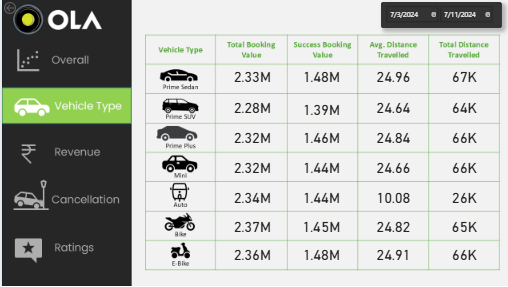

Layout of this report page (visuals, bound fields, positions):
{"tool":"powerbi","page":{"name":"Vehicle Type","canvas":[1280,720],"ordinal":1},"visuals":[{"type":"actionButton","box":[0,95.7,314.3,125.7],"z":0},{"type":"actionButton","box":[0,311.4,314.3,125.7],"z":1000},{"type":"actionButton","box":[0,437.1,314.3,124.3],"z":2000},{"type":"actionButton","box":[0,561.4,314.3,158.6],"z":3000},{"type":"card","fields":{"Values":["Sum(July.Booking_Value)"]},"box":[555.7,169.6,141.8,51.9],"z":4000},{"type":"card","fields":{"Values":["Sum(July.Booking_Value)"]},"box":[555.7,248.1,141.8,51.9],"z":5000},{"type":"card","fields":{"Values":["Sum(July.Booking_Value)"]},"box":[555.7,322.8,141.8,51.9],"z":6000},{"type":"card","fields":{"Values":["Sum(July.Booking_Value)"]},"box":[555.7,397.5,141.8,51.9],"z":7000},{"type":"card","fields":{"Values":["Sum(July.Booking_Value)"]},"box":[555.7,472.2,141.8,51.9],"z":8000},{"type":"card","fields":{"Values":["Sum(July.Booking_Value)"]},"box":[555.7,544.3,141.8,51.9],"z":9000},{"type":"card","fields":{"Values":["Sum(July.Booking_Value)"]},"box":[555.7,613.9,141.8,51.9],"z":10000},{"type":"card","fields":{"Values":["Sum(July.Booking_Value)"]},"box":[727.8,169.6,141.8,51.9],"z":11000},{"type":"card","fields":{"Values":["Sum(July.Booking_Value)"]},"box":[727.8,472.2,141.8,51.9],"z":12000},{"type":"card","fields":{"Values":["Sum(July.Booking_Value)"]},"box":[727.8,397.5,141.8,51.9],"z":13000},{"type":"card","fields":{"Values":["Sum(July.Booking_Value)"]},"box":[727.8,322.8,141.8,51.9],"z":14000},{"type":"card","fields":{"Values":["Sum(July.Booking_Value)"]},"box":[727.8,251.9,141.8,51.9],"z":15000},{"type":"card","fields":{"Values":["Sum(July.Booking_Value)"]},"box":[727.8,544.3,141.8,51.9],"z":16000},{"type":"card","fields":{"Values":["Sum(July.Booking_Value)"]},"box":[727.8,613.9,141.8,51.9],"z":17000},{"type":"card","fields":{"Values":["Avg(July.Ride_Distance)"]},"box":[907.6,169.6,141.8,51.9],"z":18000},{"type":"card","fields":{"Values":["Avg(July.Ride_Distance)"]},"box":[907.6,248.1,141.8,51.9],"z":19000},{"type":"actionButton","box":[0,0,100,40],"z":20000},{"type":"card","fields":{"Values":["Avg(July.Ride_Distance)"]},"box":[907.6,322.8,141.8,51.9],"z":21000},{"type":"card","fields":{"Values":["Avg(July.Ride_Distance)"]},"box":[907.6,397.5,141.8,51.9],"z":22000},{"type":"card","fields":{"Values":["Avg(July.Ride_Distance)"]},"box":[907.6,472.2,141.8,51.9],"z":23000},{"type":"card","fields":{"Values":["Avg(July.Ride_Distance)"]},"box":[907.6,544.3,141.8,51.9],"z":24000},{"type":"card","fields":{"Values":["Avg(July.Ride_Distance)"]},"box":[907.6,613.9,141.8,51.9],"z":25000},{"type":"card","fields":{"Values":["Sum(July.Ride_Distance)"]},"box":[1084.8,169.6,141.8,51.9],"z":26000},{"type":"card","fields":{"Values":["Sum(July.Ride_Distance)"]},"box":[1084.8,248.1,141.8,51.9],"z":27000},{"type":"card","fields":{"Values":["Sum(July.Ride_Distance)"]},"box":[1084.8,322.8,141.8,51.9],"z":28000},{"type":"card","fields":{"Values":["Sum(July.Ride_Distance)"]},"box":[1084.8,397.5,141.8,51.9],"z":29000},{"type":"card","fields":{"Values":["Sum(July.Ride_Distance)"]},"box":[1084.8,472.2,141.8,51.9],"z":30000},{"type":"card","fields":{"Values":["Sum(July.Ride_Distance)"]},"box":[1084.8,544.3,141.8,51.9],"z":31000},{"type":"card","fields":{"Values":["Sum(July.Ride_Distance)"]},"box":[1084.8,613.9,141.8,51.9],"z":32000},{"type":"slicer","title":"Date","fields":{"Values":["July.Date"]},"box":[947,6.1,301.5,65.2],"z":33000}]}

Visuals, with their boxes on the page's 1280x720 design canvas (x1, y1, x2, y2). These are canvas units, not pixel positions in the 508x287 screenshot, which may show the page scaled, cropped or inside an application window:
actionButton: bbox=[0, 96, 314, 221]
actionButton: bbox=[0, 311, 314, 437]
actionButton: bbox=[0, 437, 314, 561]
actionButton: bbox=[0, 561, 314, 720]
card - Sum(July.Booking_Value): bbox=[556, 170, 698, 222]
card - Sum(July.Booking_Value): bbox=[556, 248, 698, 300]
card - Sum(July.Booking_Value): bbox=[556, 323, 698, 375]
card - Sum(July.Booking_Value): bbox=[556, 398, 698, 449]
card - Sum(July.Booking_Value): bbox=[556, 472, 698, 524]
card - Sum(July.Booking_Value): bbox=[556, 544, 698, 596]
card - Sum(July.Booking_Value): bbox=[556, 614, 698, 666]
card - Sum(July.Booking_Value): bbox=[728, 170, 870, 222]
card - Sum(July.Booking_Value): bbox=[728, 472, 870, 524]
card - Sum(July.Booking_Value): bbox=[728, 398, 870, 449]
card - Sum(July.Booking_Value): bbox=[728, 323, 870, 375]
card - Sum(July.Booking_Value): bbox=[728, 252, 870, 304]
card - Sum(July.Booking_Value): bbox=[728, 544, 870, 596]
card - Sum(July.Booking_Value): bbox=[728, 614, 870, 666]
card - Avg(July.Ride_Distance): bbox=[908, 170, 1049, 222]
card - Avg(July.Ride_Distance): bbox=[908, 248, 1049, 300]
actionButton: bbox=[0, 0, 100, 40]
card - Avg(July.Ride_Distance): bbox=[908, 323, 1049, 375]
card - Avg(July.Ride_Distance): bbox=[908, 398, 1049, 449]
card - Avg(July.Ride_Distance): bbox=[908, 472, 1049, 524]
card - Avg(July.Ride_Distance): bbox=[908, 544, 1049, 596]
card - Avg(July.Ride_Distance): bbox=[908, 614, 1049, 666]
card - Sum(July.Ride_Distance): bbox=[1085, 170, 1227, 222]
card - Sum(July.Ride_Distance): bbox=[1085, 248, 1227, 300]
card - Sum(July.Ride_Distance): bbox=[1085, 323, 1227, 375]
card - Sum(July.Ride_Distance): bbox=[1085, 398, 1227, 449]
card - Sum(July.Ride_Distance): bbox=[1085, 472, 1227, 524]
card - Sum(July.Ride_Distance): bbox=[1085, 544, 1227, 596]
card - Sum(July.Ride_Distance): bbox=[1085, 614, 1227, 666]
"Date" slicer: bbox=[947, 6, 1248, 71]
